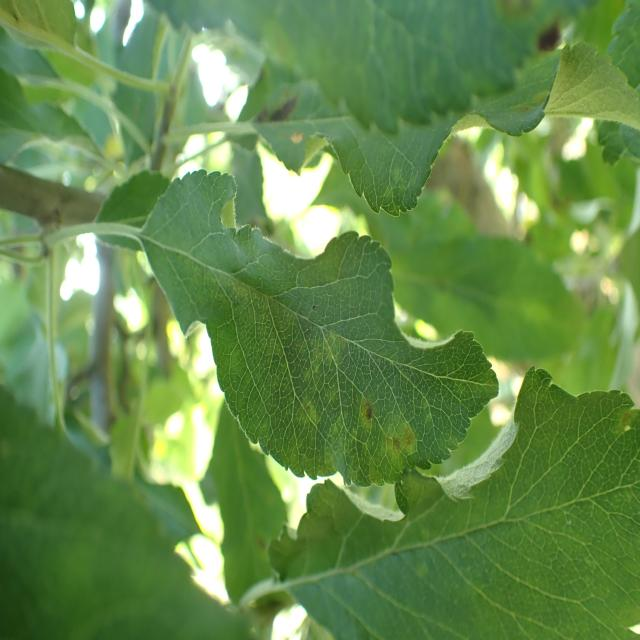scab: (183, 247, 466, 485)
